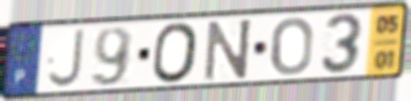3: (318, 12, 367, 76)
9: (89, 25, 138, 88)
J: (45, 27, 86, 90)
N: (202, 16, 255, 83)
O: (151, 20, 201, 85), (269, 15, 315, 78)
